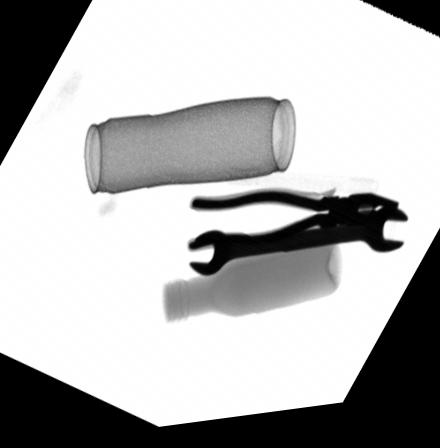Pliers: (188, 194, 400, 256)
Wrench: (185, 217, 407, 284)
